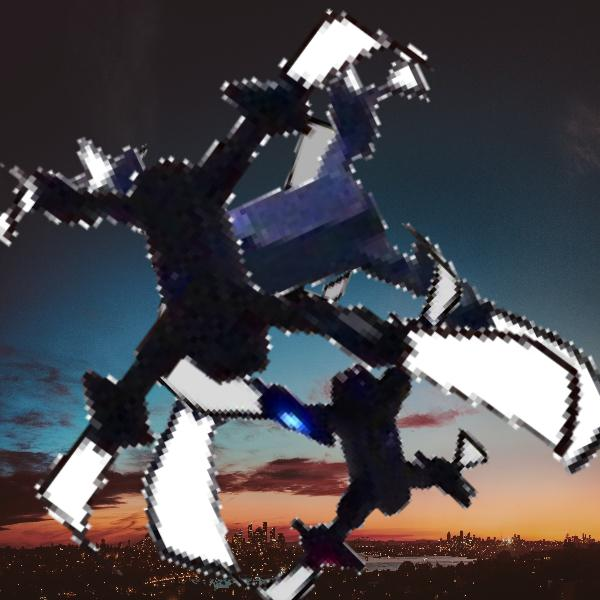drone: (51, 36, 589, 574), (119, 194, 523, 598), (100, 97, 367, 364)
